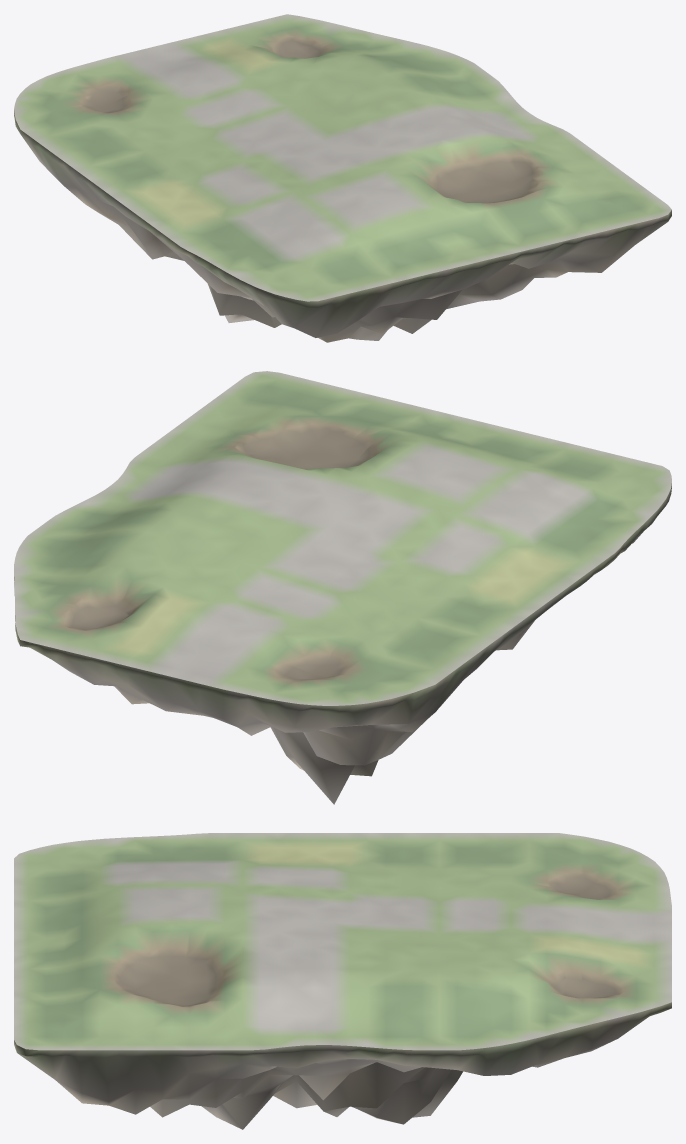
The model's file is SKY-032.rock.glb.
3 views of the same model, one above another, from view 1: azimuth 30°, elevation 25°; view 2: azimuth 150°, elevation 25°; view 3: azimuth 270°, elevation 25° (orthographic). The views are drawn at different scales.
Parts seen in each view (by area): view 1: deck-col, rock; view 2: deck-col, rock; view 3: deck-col, rock.
Boxes of the visible parts, x1,y1,x2,y2 form: deck-col: (14, 14, 671, 301); rock: (14, 110, 671, 342); deck-col: (14, 371, 671, 705); rock: (14, 483, 671, 804); deck-col: (14, 833, 671, 1050); rock: (14, 1002, 671, 1129).
Bounding box in the file's own units: 115 × 56.1 × 147.
